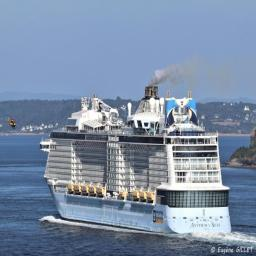cruises: (38, 82, 235, 242)
